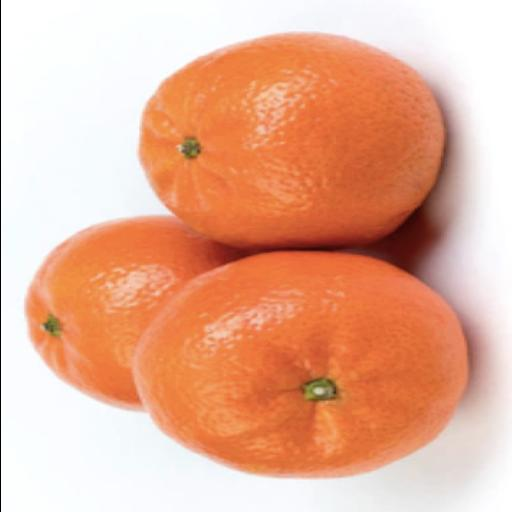orange: (134, 251, 468, 477), (140, 32, 445, 249), (26, 216, 246, 409)
